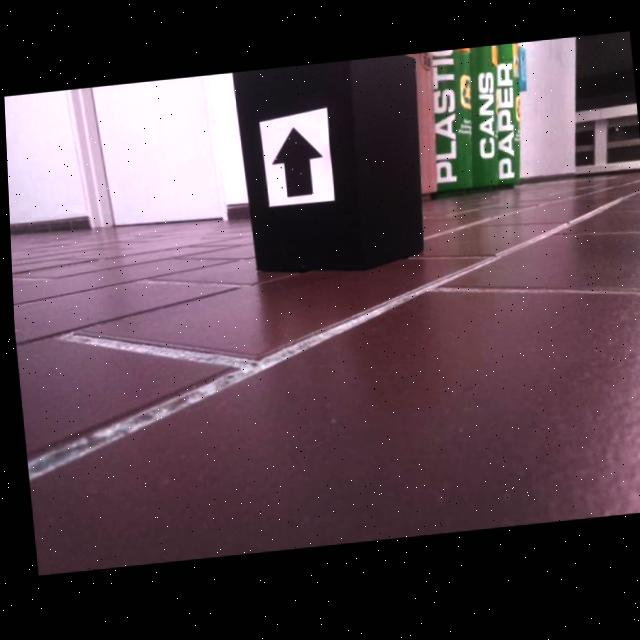UP: (270, 130, 321, 201)
